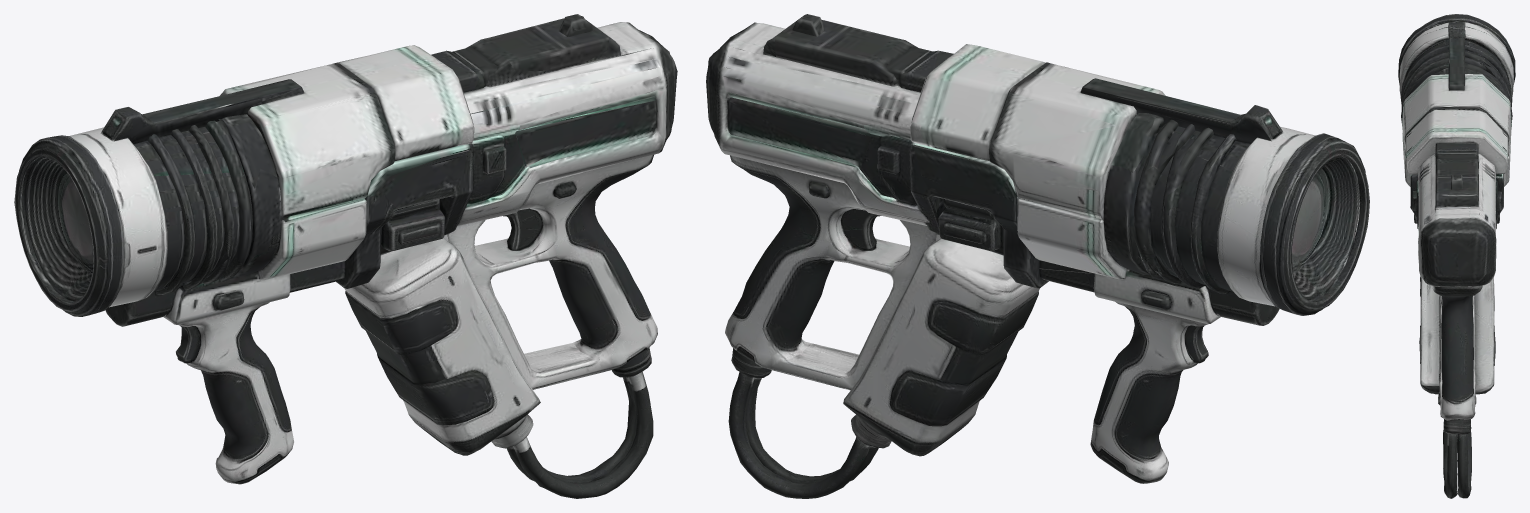
The model's file is mining-laser-tool.glb.
3 views of the same model, side by side, from view 1: azimuth 30°, elevation 25°; view 2: azimuth 150°, elevation 25°; view 3: azimuth 270°, elevation 25° (orthographic). The views are drawn at different scales.
Parts seen in each view (by area): view 1: mesh_node; view 2: mesh_node; view 3: mesh_node.
Part boxes in pixels (x1,y1,x2,y2): mesh_node: [14, 14, 677, 498]; mesh_node: [706, 14, 1369, 498]; mesh_node: [1398, 14, 1515, 498].
Size of the model in its own units: 0.8 by 0.6266 by 0.2062.
Materials: 1 (1 with a texture image).
